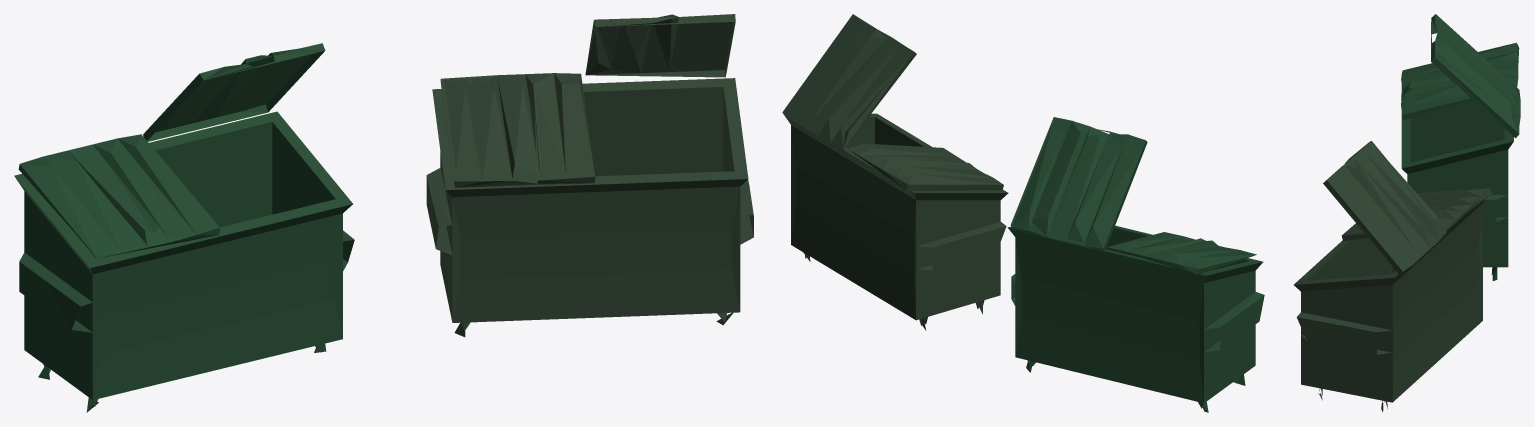
The model's file is dumpsters.lod1.glb.
3 views of the same model, side by side, from view 1: azimuth 30°, elevation 25°; view 2: azimuth 150°, elevation 25°; view 3: azimuth 270°, elevation 25° (orthographic). The views are drawn at different scales.
Parts seen in each view (by area): view 1: Base_01_Dumpster_01_0; view 2: Base_01_Dumpster_01_0; view 3: Base_01_Dumpster_01_0.
Part boxes in pixels (bbox=[...]): Base_01_Dumpster_01_0: bbox=[14, 14, 753, 412]; Base_01_Dumpster_01_0: bbox=[782, 14, 1264, 412]; Base_01_Dumpster_01_0: bbox=[1294, 14, 1520, 412].
Bounding box in the file's own units: 4.92 × 2.22 × 2.02.
